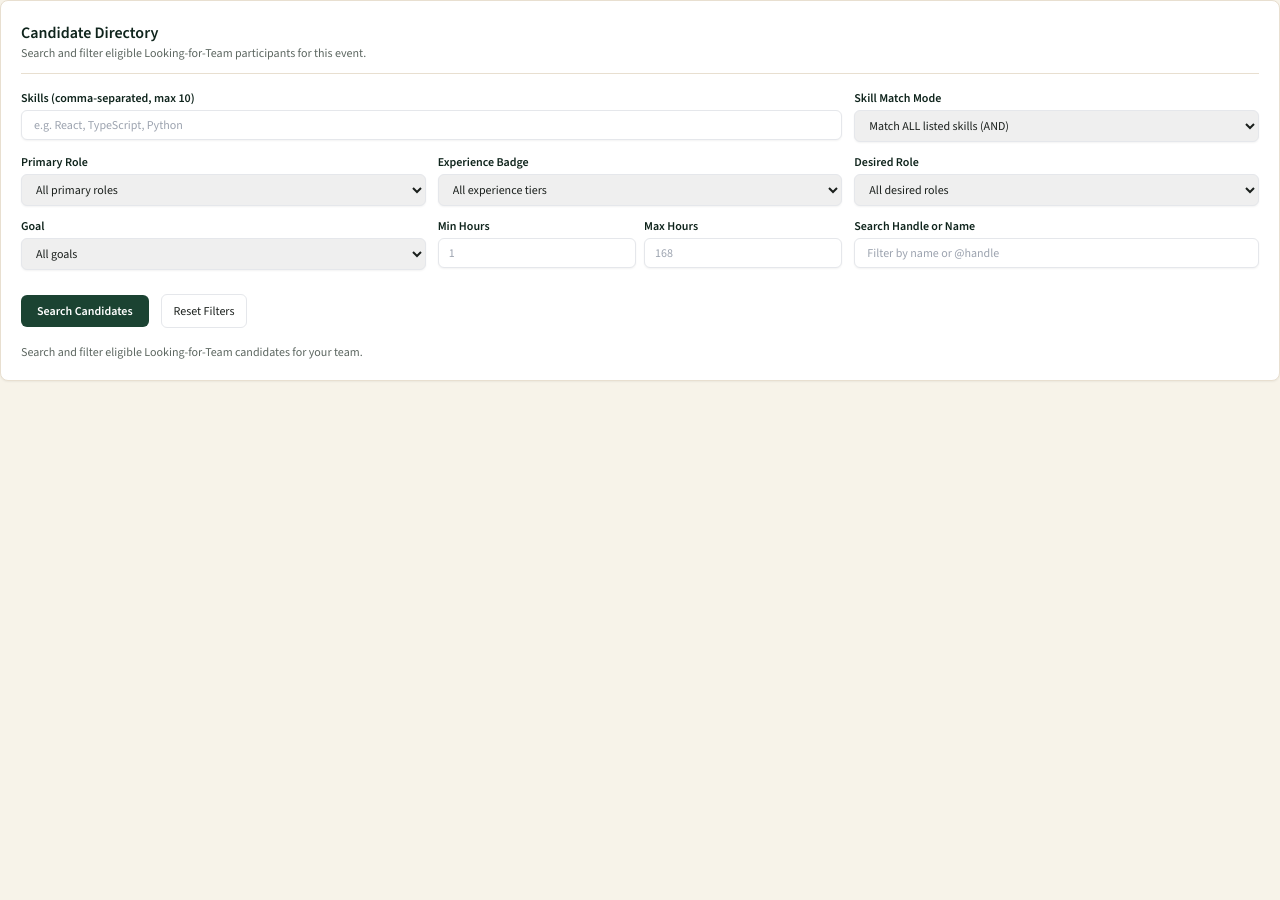
CandidateDirectoryPanel (US-014-T4 / #139) › executes candidate search and renders candidate card with non-color matched skill chips (FR-042)
The width and height of the screenshot is (1280, 900).
Type "React, TypeScript" into the field with test id "directory-skills-input" at (432, 125), box [21,110,842,140]
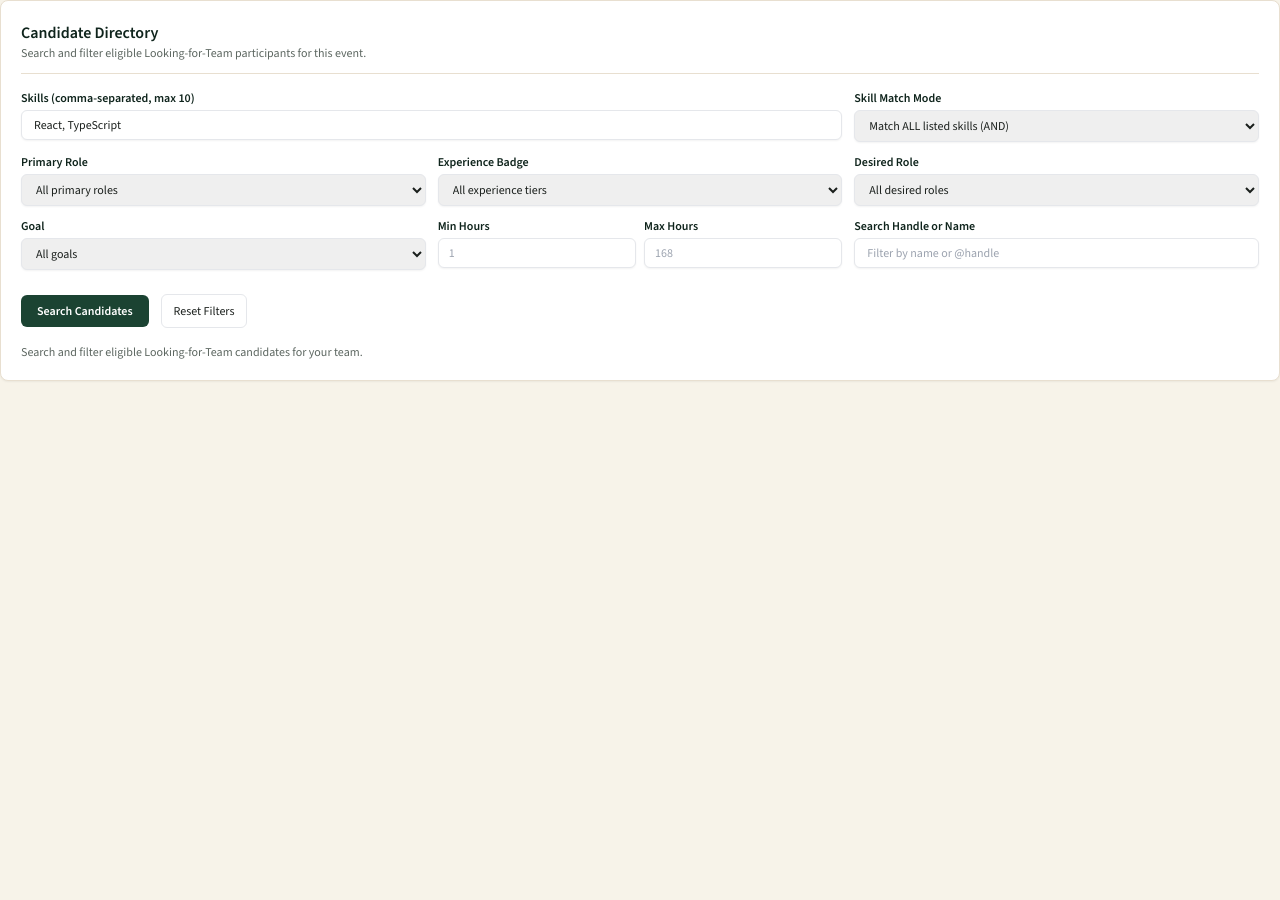
Click the button with test id "directory-search-submit" at (85, 311), box [21,295,149,327]
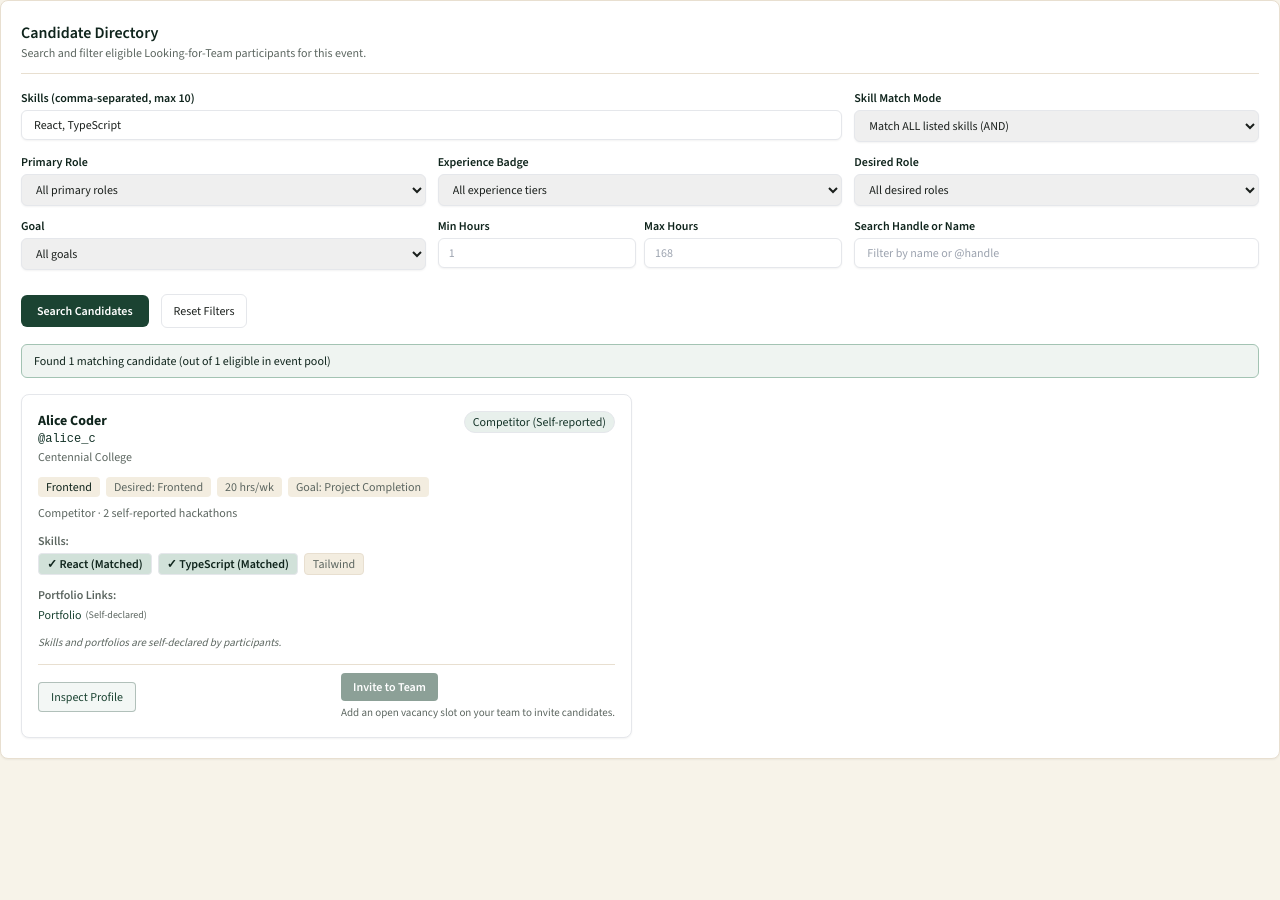
Expected: the element with test id "directory-results-container" is shown, [21,344,1259,738]
Expected: the heading with test id "candidate-display-name" reads "Alice Coder", [38,411,107,430]
Expected: the text "@alice_c" is shown, [38,432,96,446]
